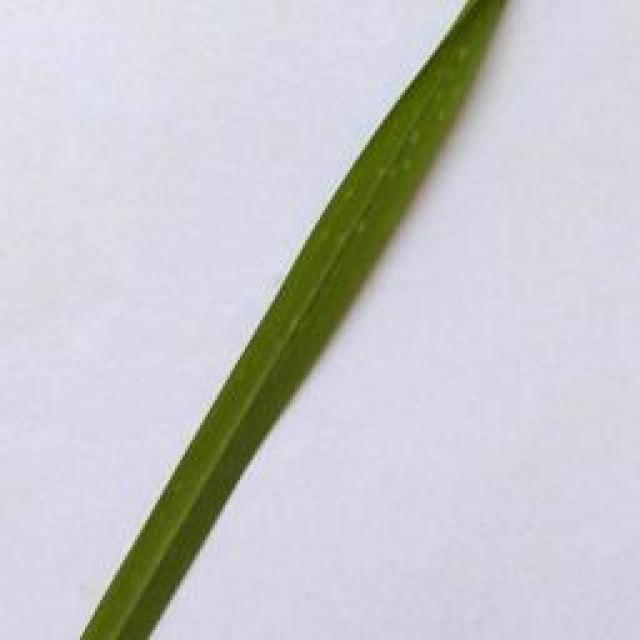Healthy-Plant: (84, 0, 510, 640)
